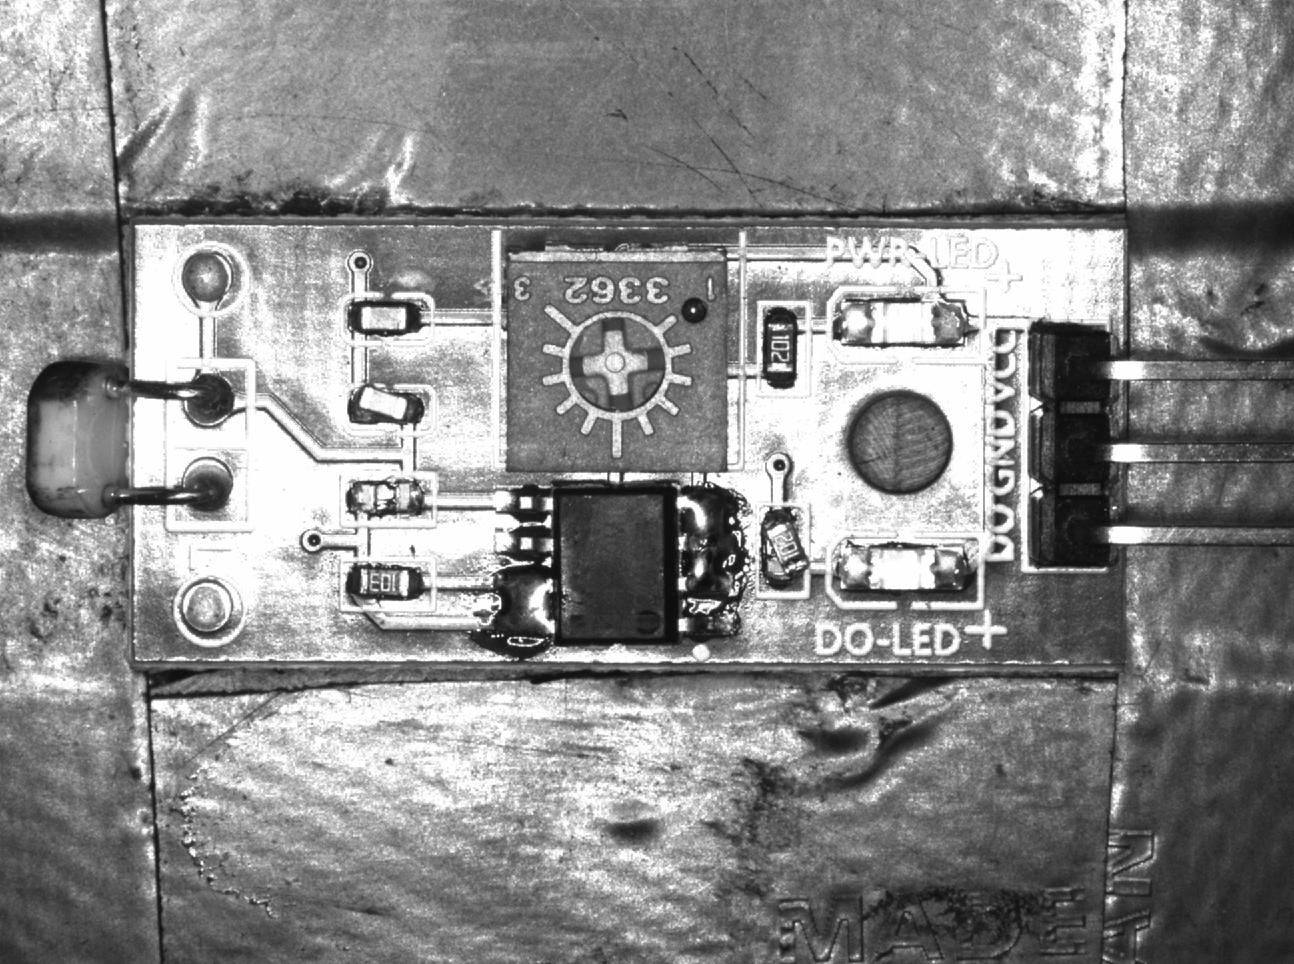bridge: (676, 482, 750, 604), (493, 565, 555, 649)
lifted: (341, 382, 435, 433), (758, 502, 807, 597)
miss: (340, 471, 438, 526)
ok: (339, 292, 434, 348), (757, 299, 810, 398), (341, 558, 435, 612)
